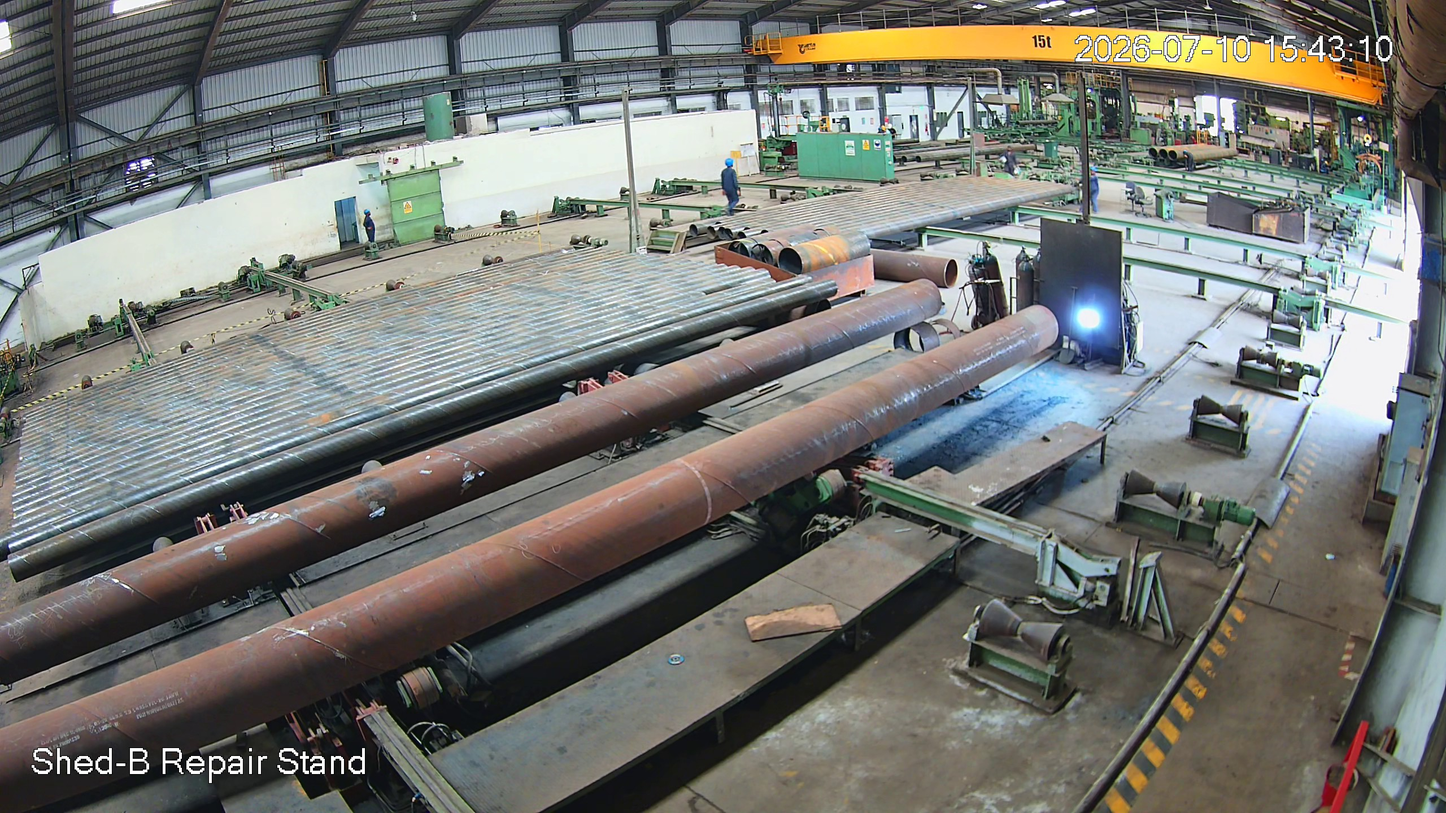Helmet: (721, 155, 739, 177)
Person: (717, 157, 743, 219)
